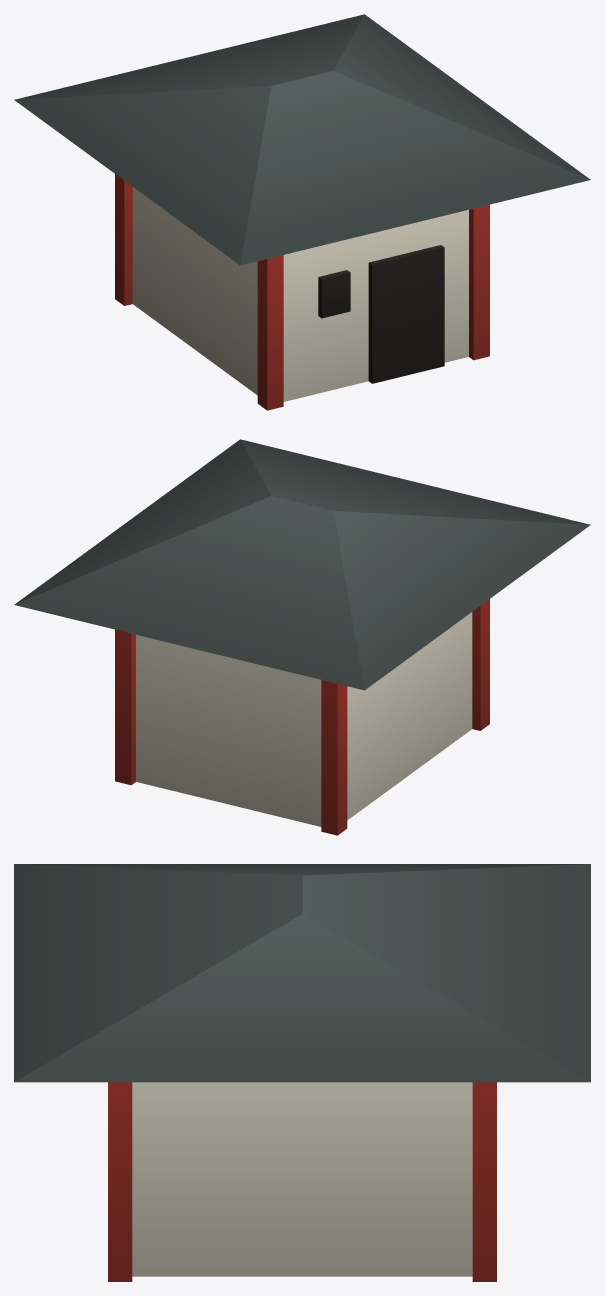
Rendered from house_EA_2a.glb.
3 views of the same model, one above another, from view 1: azimuth 30°, elevation 25°; view 2: azimuth 150°, elevation 25°; view 3: azimuth 270°, elevation 25° (orthographic). The views are drawn at different scales.
Parts seen in each view (by area): view 1: Body; view 2: Body; view 3: Body.
Boxes of the visible parts, box(x1,y1,x2,y2) form: Body: box(14, 14, 590, 410); Body: box(14, 439, 590, 835); Body: box(14, 864, 590, 1281).
Size of the model in its own units: 1.7 by 1.15 by 1.9.
Materials: 1 (1 with a texture image).
